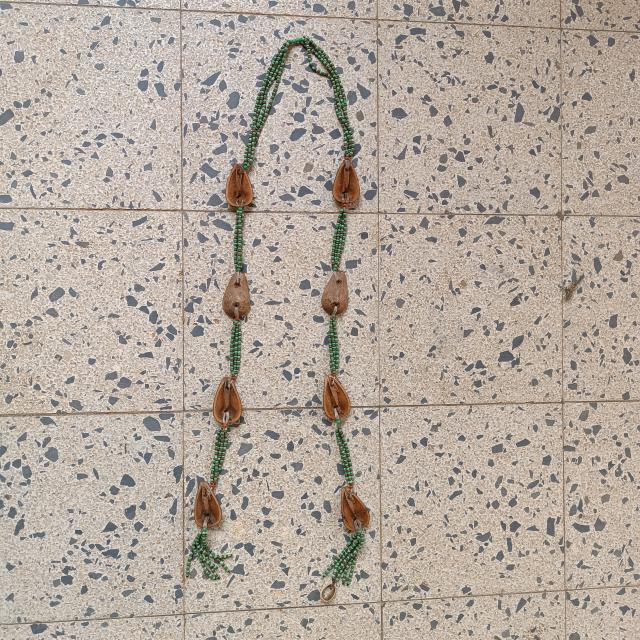facedown: (214, 268, 260, 326), (317, 262, 354, 323)
faceup: (328, 152, 369, 218), (208, 374, 249, 437), (219, 158, 262, 216), (315, 368, 356, 428), (335, 481, 373, 542), (186, 474, 224, 532)
